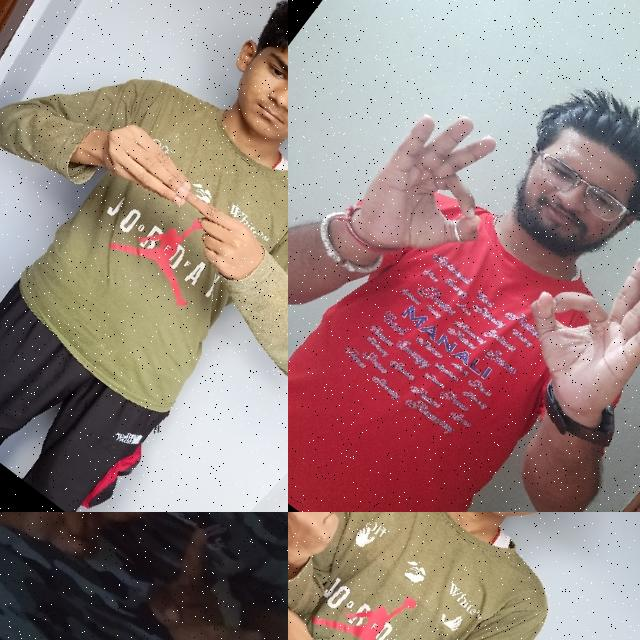Corna: (123, 518, 288, 640), (0, 512, 177, 602)
Five Fathers: (73, 105, 287, 298)
Middle Finger: (288, 512, 387, 586)
Okay: (318, 85, 540, 318), (478, 211, 640, 453)
